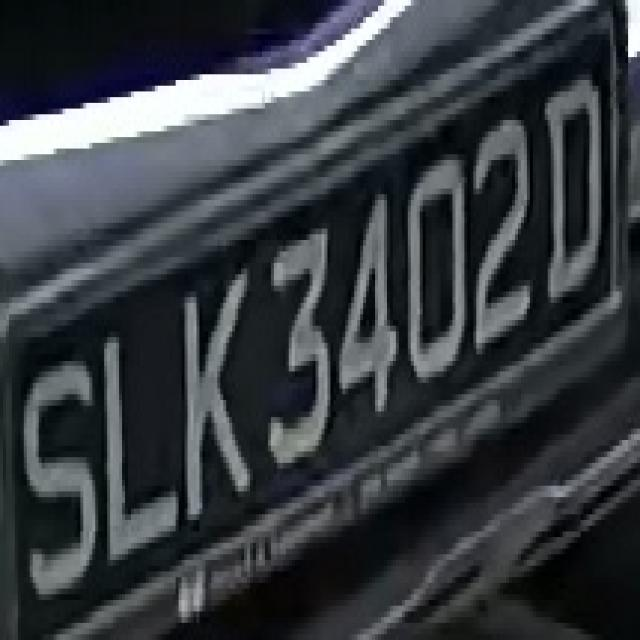0: (399, 143, 479, 411)
2: (467, 103, 548, 371)
3: (262, 223, 336, 480)
4: (324, 194, 411, 440)
D: (536, 63, 607, 326)
K: (179, 268, 265, 543)
L: (95, 308, 176, 588)
S: (18, 337, 104, 606)
